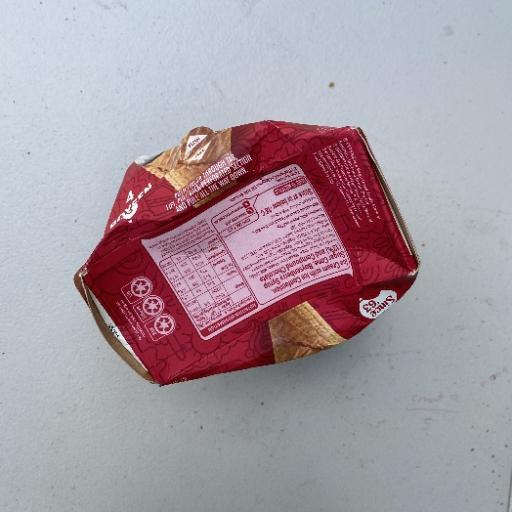Cardboard: (73, 119, 421, 388)
